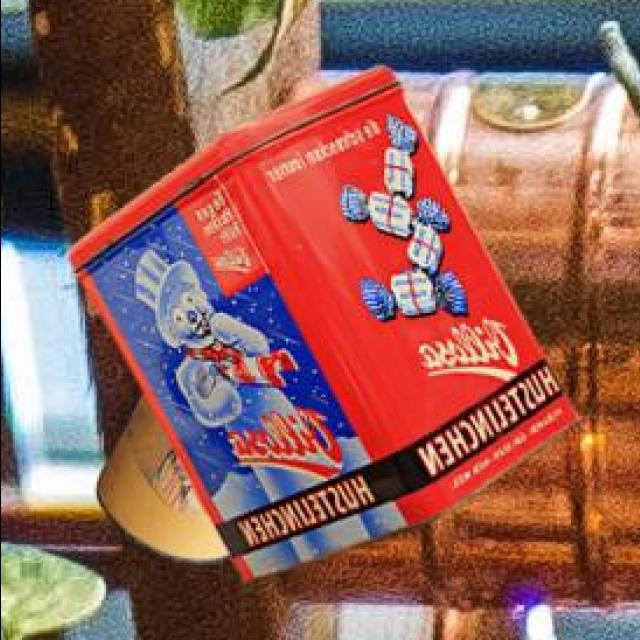logam: (71, 69, 583, 587), (99, 398, 232, 569)
